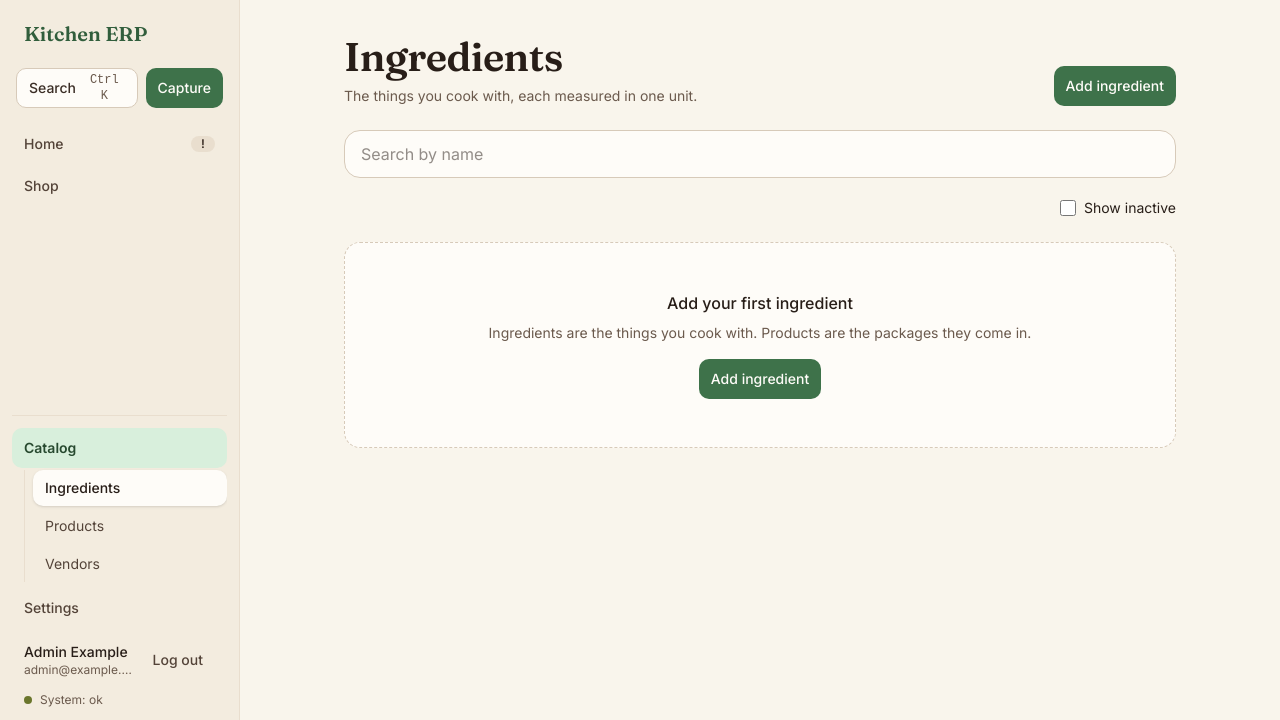
Test case: ingredients › creates an ingredient from a name and its suggested category
Expected: the heading "Ingredients" is shown, [344,32,563,81]
Step 1. Click the 1st button "Add ingredient" → point(1115, 86), box [1054,66,1176,106]
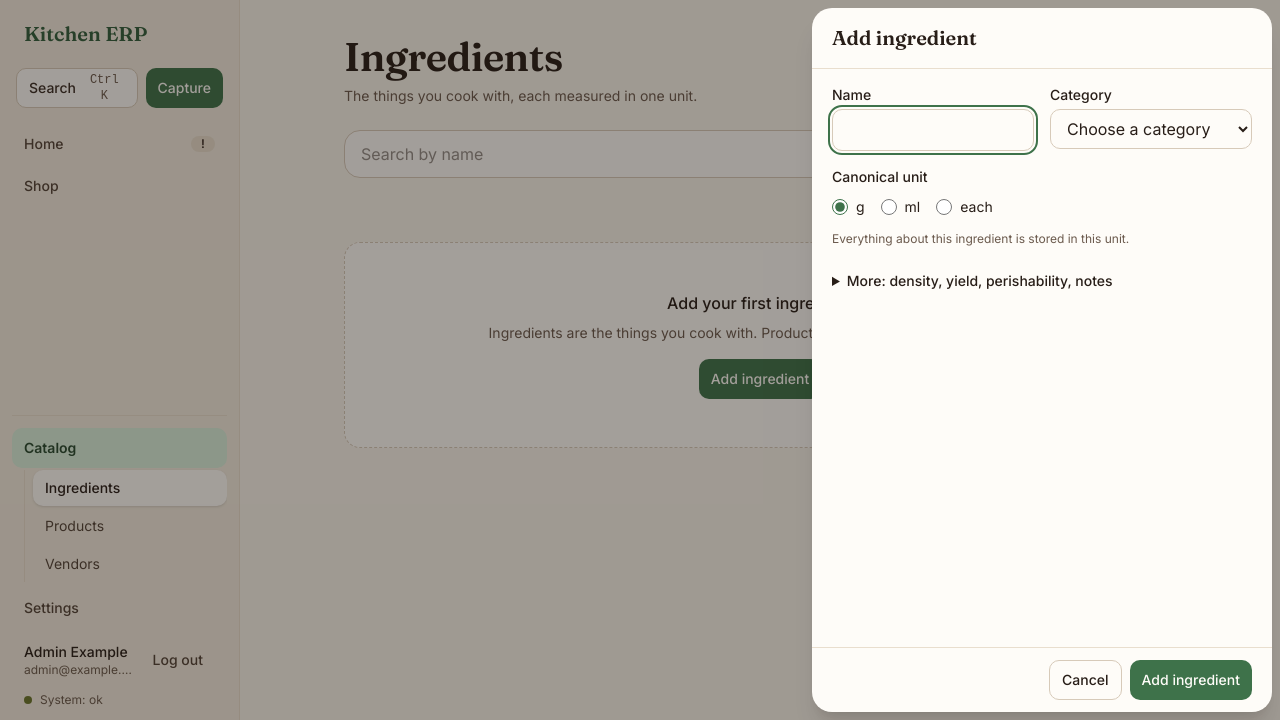
Step 2. Type "cumin" into the field labelled "Name" → point(933, 130), box [832,109,1034,151]
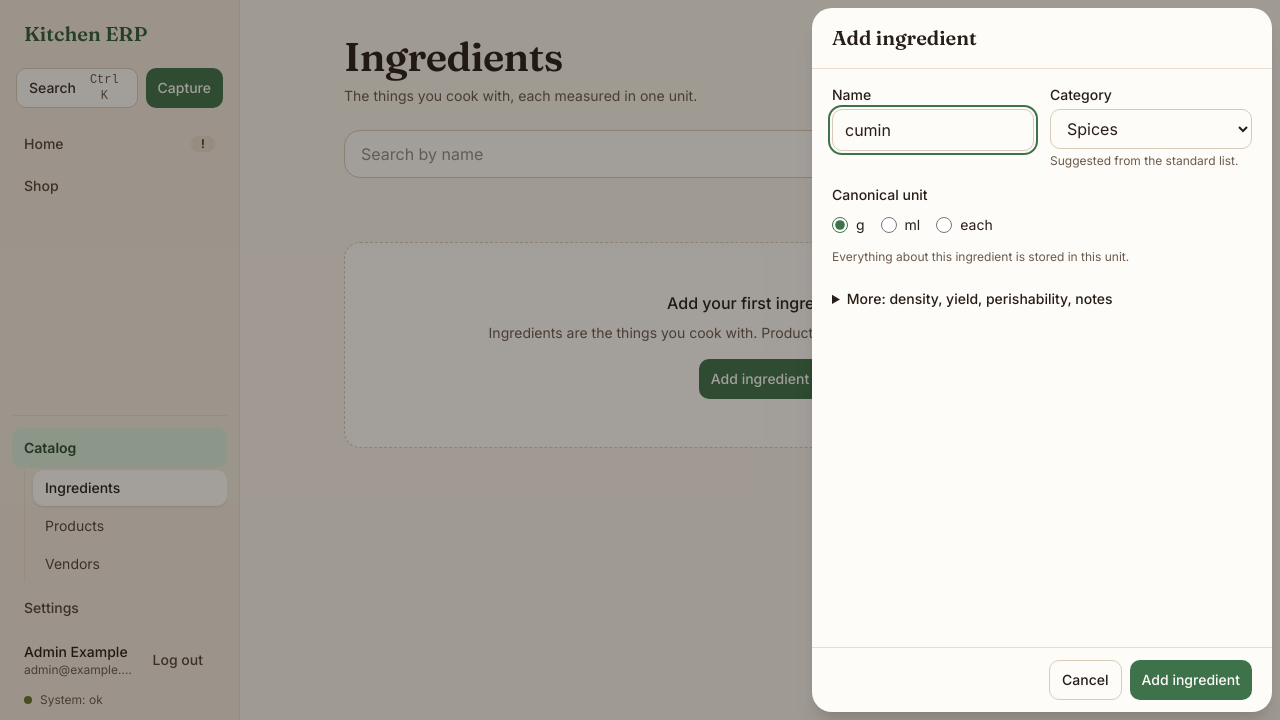
Expected: the dropdown labelled "Category" shows "Spices", [1050,109,1252,149]
Expected: the text "Suggested from the standard list." is shown, [1050,153,1252,169]
Step 3. Click the button "Add ingredient" → point(1191, 680), box [1130,660,1252,700]
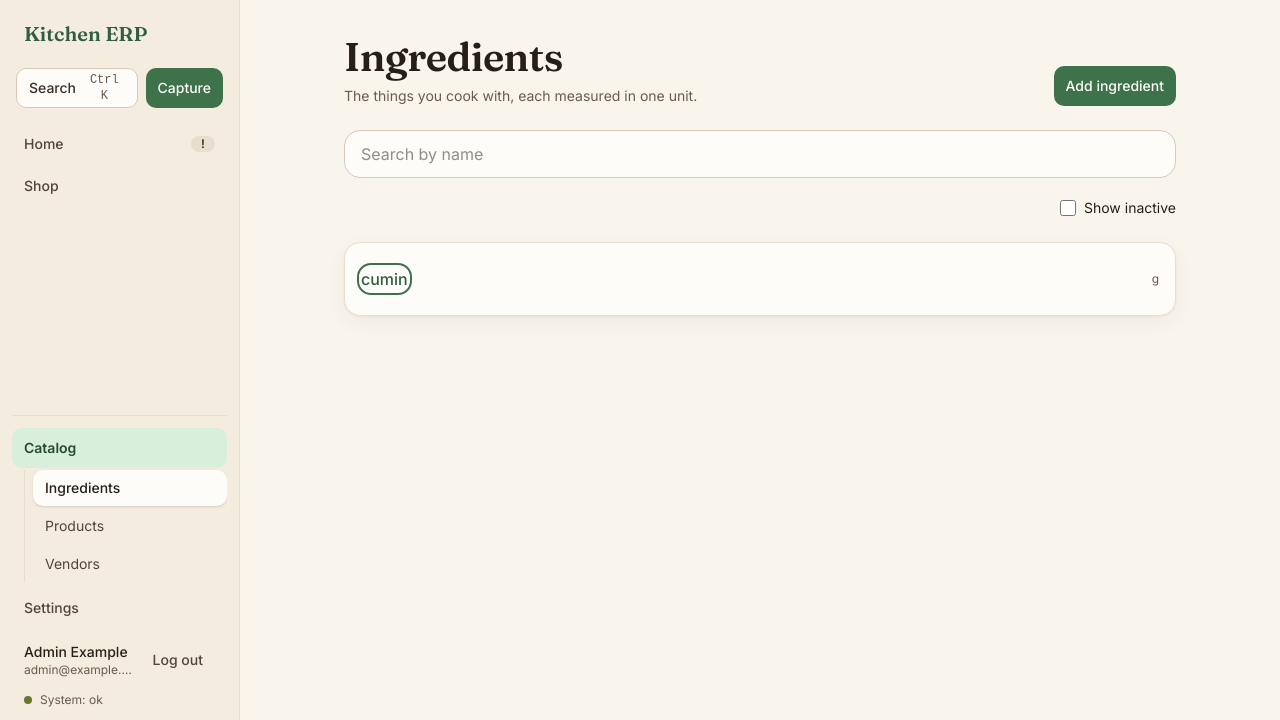
Expected: the dialog is gone
